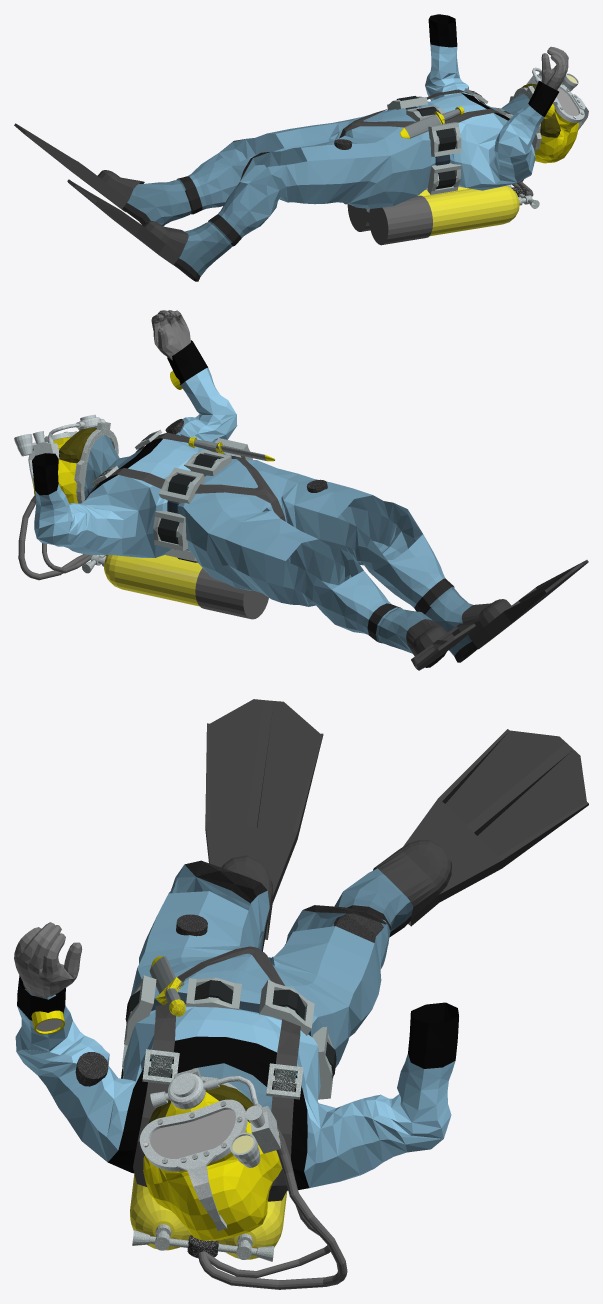
File: diver.dae
The picture shows the model from 3 angles, top to bottom: view 1: azimuth 30°, elevation 25°; view 2: azimuth 150°, elevation 25°; view 3: azimuth 270°, elevation 25°; orthographic projection. The views are drawn at different scales.
Visible parts, largest first — view 1: ShapeIndexed_122; view 2: ShapeIndexed_122; view 3: ShapeIndexed_122.
Boxes of the visible parts, box(x1,y1,x2,y2) form: ShapeIndexed_122: box(14, 14, 588, 281); ShapeIndexed_122: box(14, 310, 588, 670); ShapeIndexed_122: box(14, 699, 588, 1289).
Bounding box in the file's own units: 0.2096 × 0.1184 × 0.0791.
